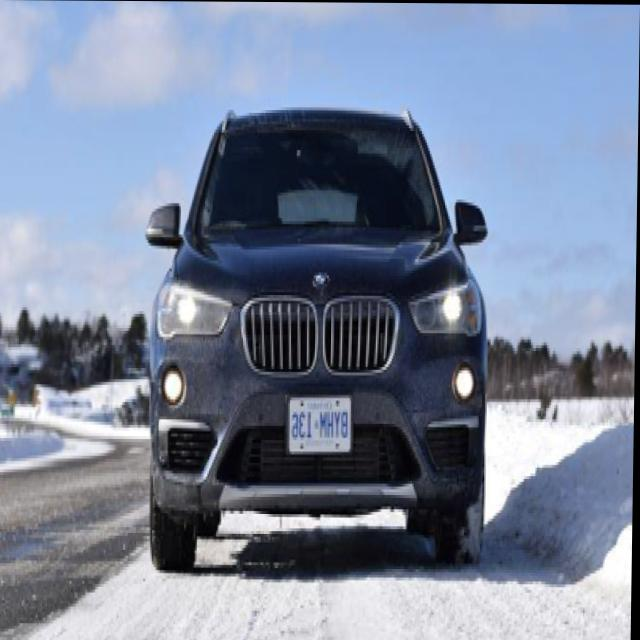licence: (291, 394, 354, 452)
